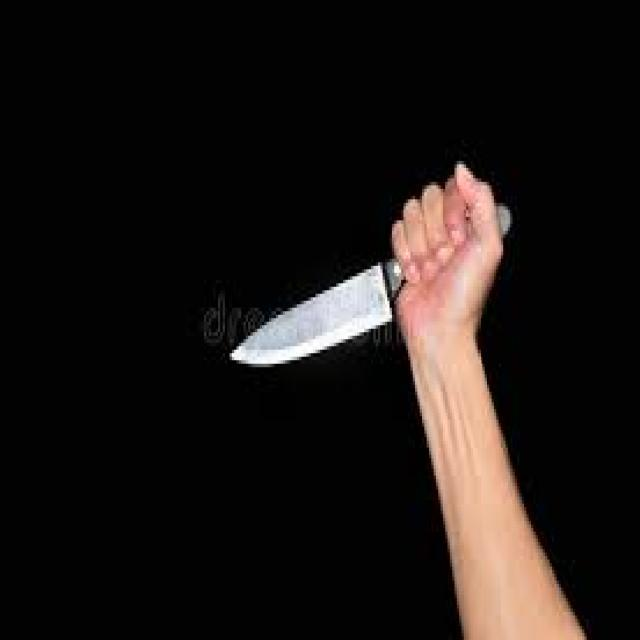faca: (208, 164, 532, 378)
